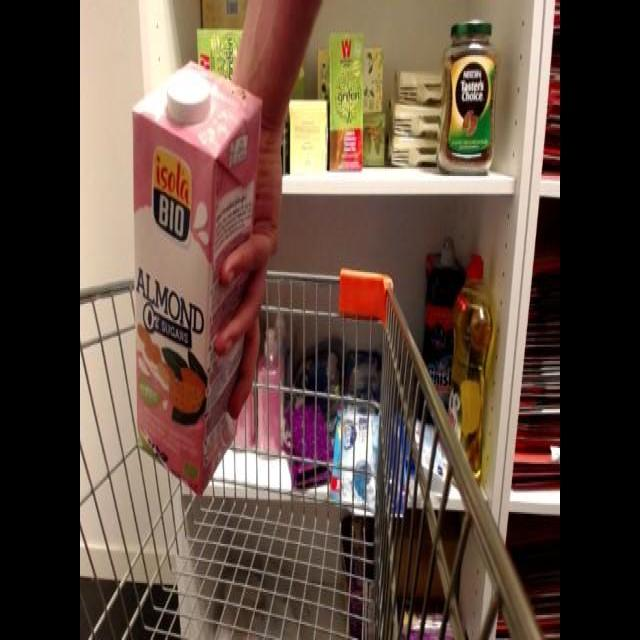Almond Milk: (129, 54, 269, 506)
